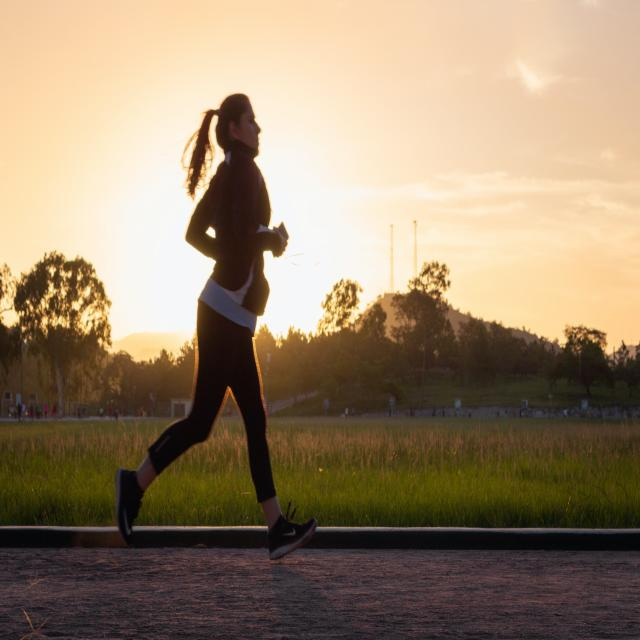standing: (114, 91, 323, 568)
